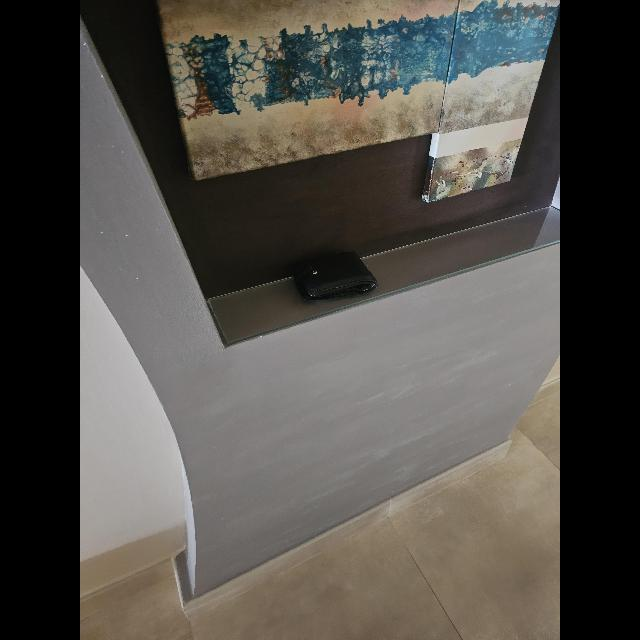Wallet: (294, 250, 378, 300)
